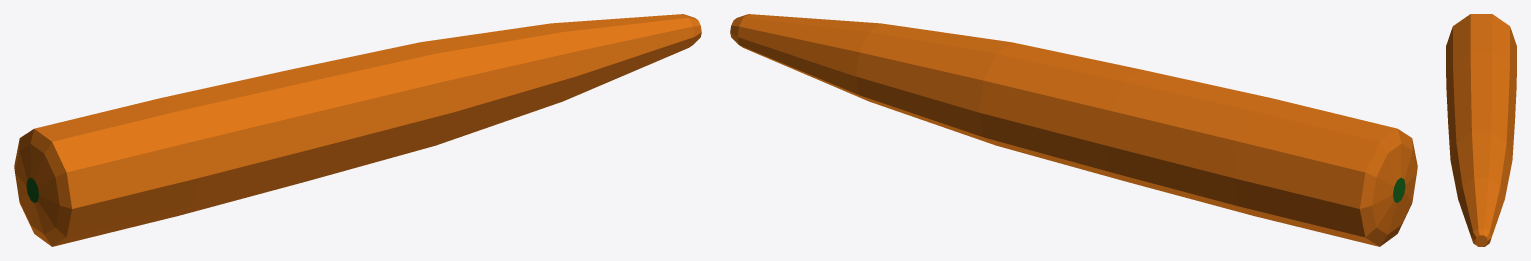
The model's file is Karotte.fbx.
3 renders of one model, left to right at view 1: azimuth 30°, elevation 25°; view 2: azimuth 150°, elevation 25°; view 3: azimuth 270°, elevation 25°, orthographic. The views are drawn at different scales.
Parts seen in each view (by area): view 1: Karotte; view 2: Karotte; view 3: Karotte.
Part boxes in pixels (left/top/right/bottom): Karotte: left=14, top=14, right=701, bottom=246; Karotte: left=730, top=14, right=1417, bottom=246; Karotte: left=1446, top=14, right=1516, bottom=246.
Size of the model in its own units: 41.11 by 6.22 by 6.22.
